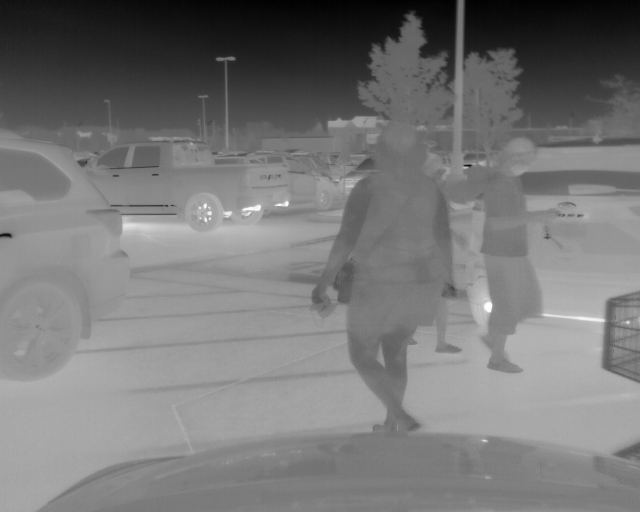car: (439, 136, 640, 326), (1, 130, 129, 381), (87, 140, 291, 230), (215, 153, 340, 213)
people: (307, 123, 439, 435), (478, 135, 563, 374), (407, 153, 465, 354)
